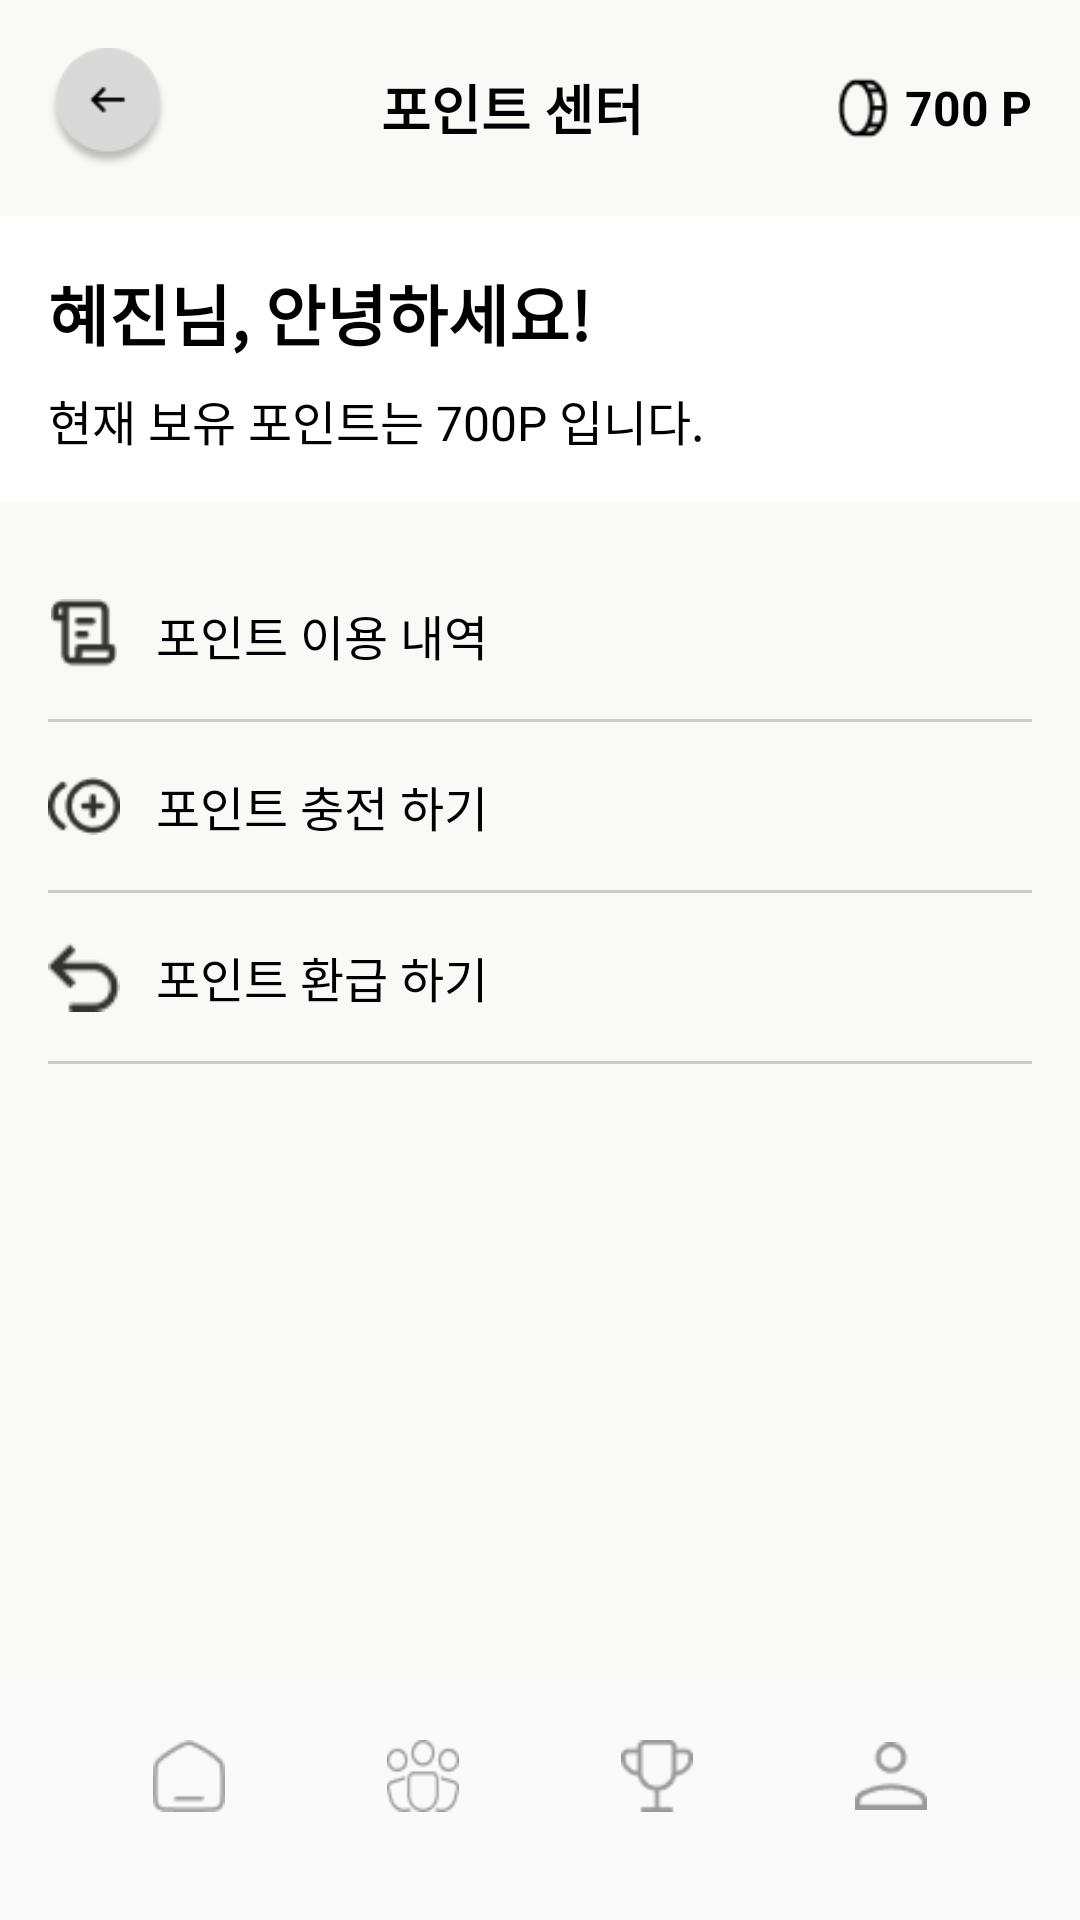

Icons on this 1080×1920 Android screen, each with its box as (x1, y1, x2, y2):
back: (55, 48, 161, 161)
charge: (48, 777, 120, 835)
history: (51, 599, 117, 666)
point: (838, 78, 888, 138)
refund: (48, 944, 120, 1012)
마이 아이콘: (855, 1742, 927, 1810)
챌린지 아이콘: (621, 1740, 693, 1812)
커뮤니티 아이콘: (387, 1740, 459, 1812)
홈 아이콘: (153, 1740, 225, 1812)
